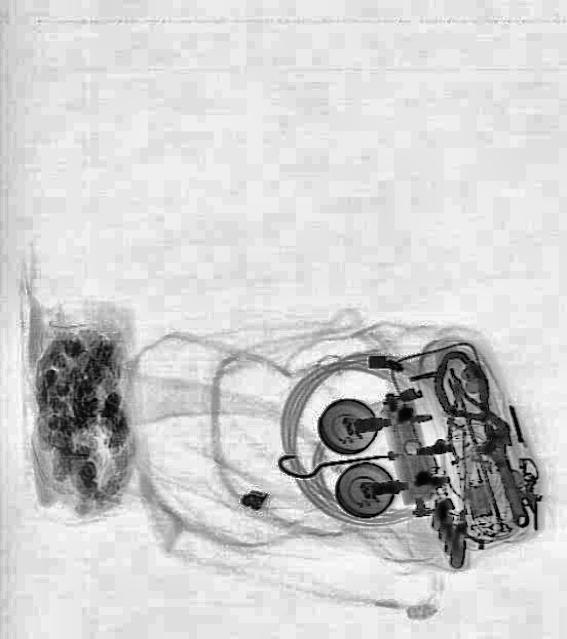Pliers: (426, 363, 510, 465)
Wrench: (476, 414, 538, 532)
